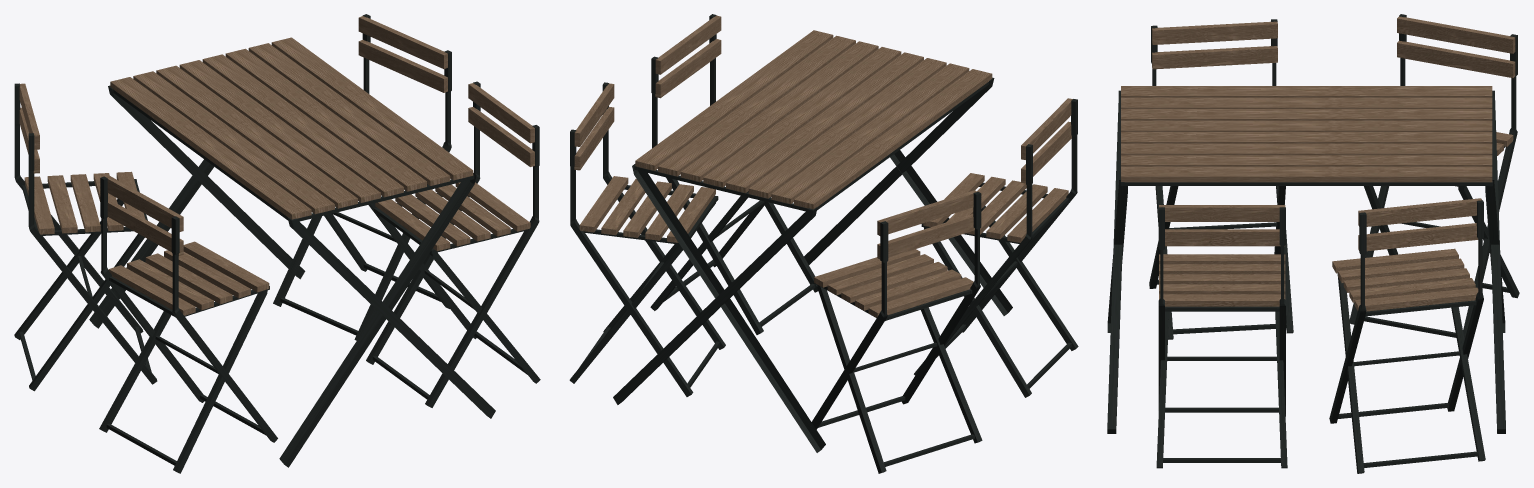
The model's file is tables_and_chairs.glb.
The picture shows the model from 3 angles, left to right: view 1: azimuth 30°, elevation 25°; view 2: azimuth 150°, elevation 25°; view 3: azimuth 270°, elevation 25°; orthographic projection. The views are drawn at different scales.
Parts seen in each view (by area): view 1: Table, Chair2, Chair1, Chair4, Chair3; view 2: Table, Chair4, Chair3, Chair2, Chair1; view 3: Table, Chair3, Chair1, Chair4, Chair2.
Part boxes in pixels (box(x1,y1,x2,y2)): Table: box(89, 37, 495, 467); Chair2: box(99, 175, 277, 473); Chair1: box(366, 81, 540, 407); Chair4: box(14, 83, 157, 391); Chair3: box(273, 14, 451, 340); Table: box(613, 30, 1012, 452); Chair4: box(811, 190, 982, 473); Chair3: box(569, 82, 725, 396); Chair2: box(914, 98, 1078, 397); Chair1: box(650, 14, 818, 334); Table: box(1107, 86, 1505, 433); Chair3: box(1329, 198, 1485, 473); Chair1: box(1156, 205, 1287, 468); Chair4: box(1349, 14, 1519, 339); Chair2: box(1149, 19, 1293, 339).
Size of the model in its own units: 1.81 by 1.1 by 1.57.
Materials: 2 (2 with a texture image).
